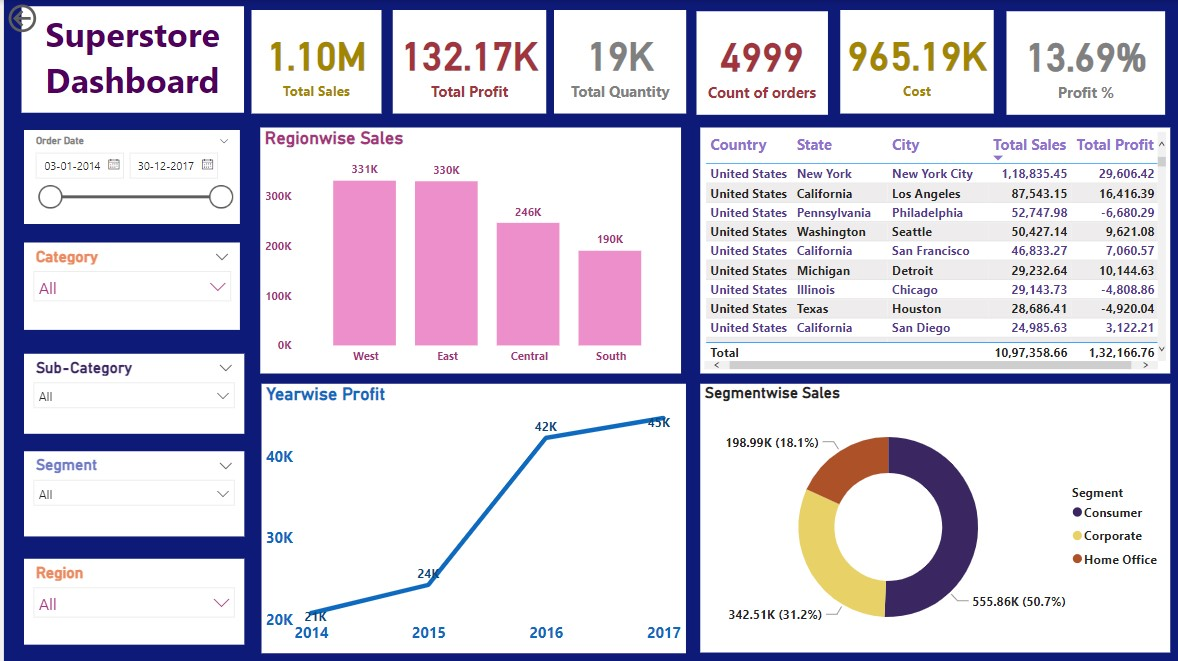

This screenshot's page, from the dashboard's own definition file:
{"tool":"powerbi","page":{"name":"Insights 1","canvas":[1280,720],"ordinal":0},"visuals":[{"type":"clusteredColumnChart","title":"Regionwise Sales","fields":{"Category":["Sample - Superstore.Region"],"Y":["Sum(Sample - Superstore.Sales)"]},"box":[278.7,139.4,458.4,267.7],"z":0},{"type":"textbox","box":[19.6,7.3,242,116.1],"z":1000},{"type":"lineChart","title":"Yearwise Profit","fields":{"Category":["Sample - Superstore.Order Date.Variation.Date Hierarchy.Year"],"Y":["Sum(Sample - Superstore.Profit)"]},"box":[279.9,418.1,462.1,293.4],"z":2000},{"type":"tableEx","fields":{"Values":["Sample - Superstore.Country","Sample - Superstore.State","Sample - Superstore.City","Sum(Sample - Superstore.Sales)","Sum(Sample - Superstore.Profit)"]},"box":[758.5,138.9,512,268.3],"z":3000},{"type":"actionButton","box":[0,0,100,40],"z":4000},{"type":"donutChart","title":"Segmentwise Sales","fields":{"Category":["Sample - Superstore.Segment"],"Y":["Sum(Sample - Superstore.Sales)"]},"box":[758.5,418,512,292.8],"z":5000},{"type":"card","fields":{"Values":["Sum(Sample - Superstore.Sales)"]},"box":[269.6,10.9,141.6,113],"z":6000},{"type":"card","fields":{"Values":["Sum(Sample - Superstore.Profit)"]},"box":[423.5,10.9,167.5,113],"z":7000},{"type":"card","fields":{"Values":["Sum(Sample - Superstore.Quantity)"]},"box":[599.1,10.9,144.3,113],"z":8000},{"type":"card","fields":{"Values":["Category.Count of orders"]},"box":[754.4,12.3,143,113],"z":9000},{"type":"card","fields":{"Values":["Category.Cost"]},"box":[911,10.9,167.5,113],"z":10000},{"type":"card","fields":{"Values":["Category.Profit %"]},"box":[1092.1,12.3,172.9,113],"z":11000},{"type":"slicer","fields":{"Values":["Sample - Superstore.Order Date"]},"box":[21.8,141.6,235.6,102.1],"z":12000},{"type":"slicer","fields":{"Values":["Category.Category"]},"box":[21.8,264.2,235.6,95.3],"z":13000},{"type":"slicer","fields":{"Values":["Sample - Superstore.Sub-Category"]},"box":[21.8,385.4,239.7,87.1],"z":14000},{"type":"slicer","fields":{"Values":["Sample - Superstore.Segment"]},"box":[21.8,491.6,239.7,92.6],"z":15000},{"type":"slicer","fields":{"Values":["Sample - Superstore.Region"]},"box":[21.8,608.7,239.7,94],"z":16000}]}

Visuals, with their boxes in screenshot pixels (x1, y1, x2, y2), scaled from the page's 1280x720 canvas onto the 1178x661 screenshot:
"Regionwise Sales" clusteredColumnChart: 256 128 678 374
textbox: 18 7 241 113
"Yearwise Profit" lineChart: 258 384 683 653
tableEx - Sample - Superstore.Country x Sample - Superstore.State: 698 128 1169 374
actionButton: 0 0 92 37
"Segmentwise Sales" donutChart: 698 384 1169 653
card - Sum(Sample - Superstore.Sales): 248 10 378 114
card - Sum(Sample - Superstore.Profit): 390 10 544 114
card - Sum(Sample - Superstore.Quantity): 551 10 684 114
card - Category.Count of orders: 694 11 826 115
card - Category.Cost: 838 10 993 114
card - Category.Profit %: 1005 11 1164 115
slicer - Sample - Superstore.Order Date: 20 130 237 224
slicer - Category.Category: 20 243 237 330
slicer - Sample - Superstore.Sub-Category: 20 354 241 434
slicer - Sample - Superstore.Segment: 20 451 241 536
slicer - Sample - Superstore.Region: 20 559 241 645
